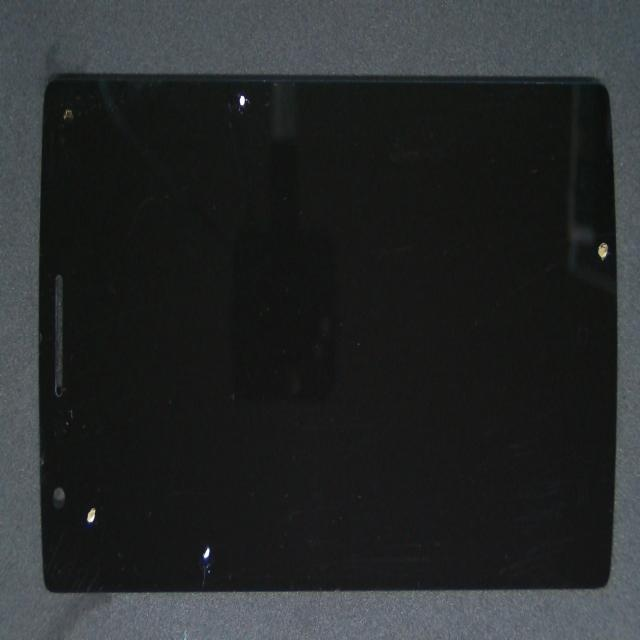stain: (111, 260, 304, 640), (57, 227, 134, 640), (128, 32, 359, 130)
